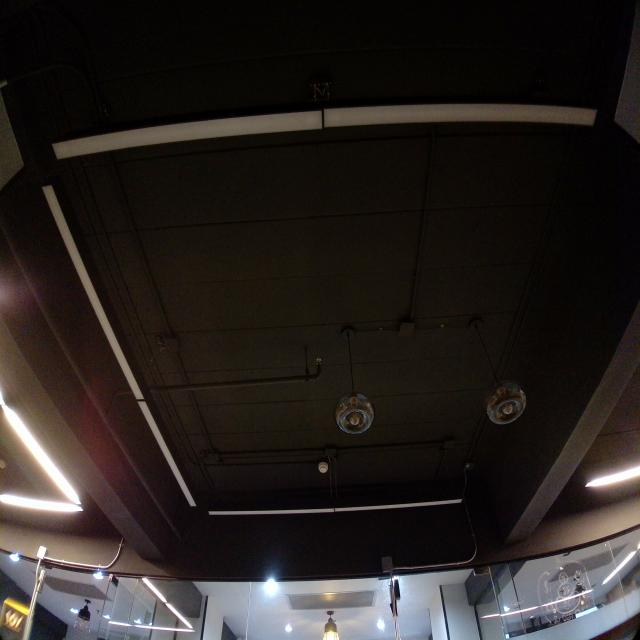lamp2_off: (34, 177, 205, 516), (43, 98, 606, 167), (206, 491, 471, 520)
